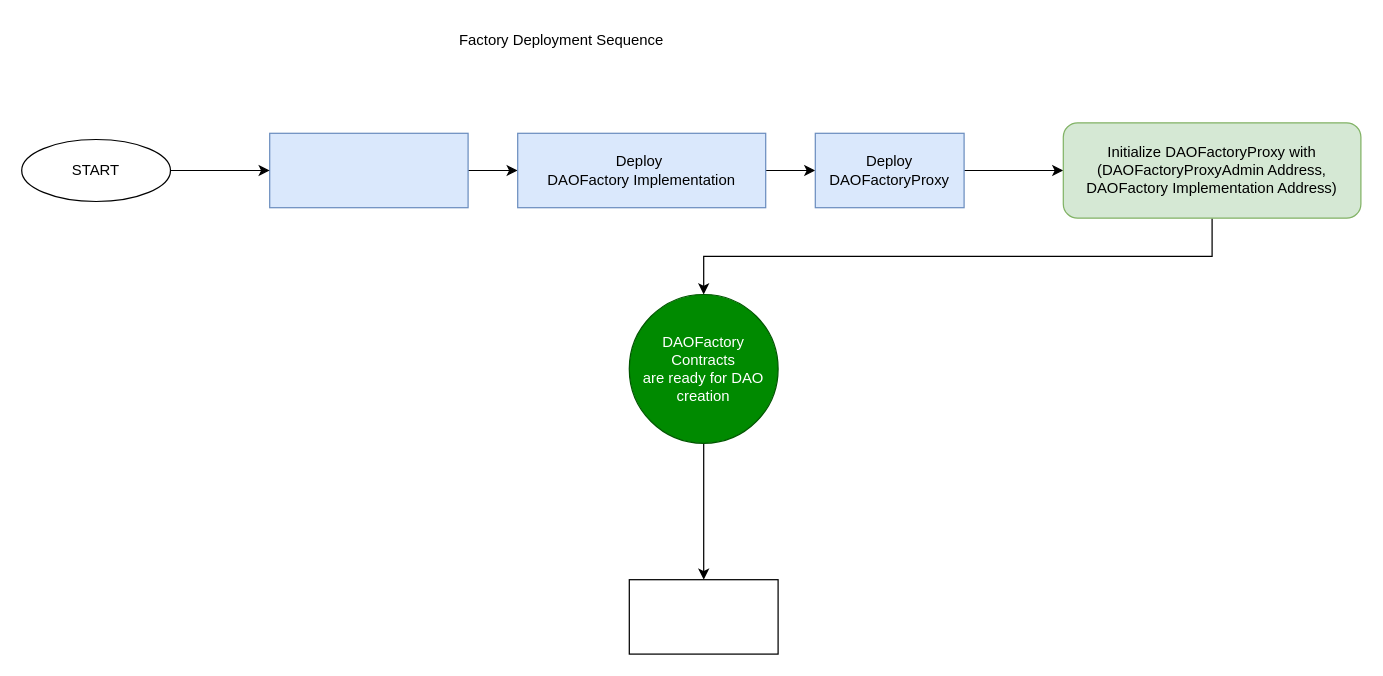
Image size: 1383x676. Some labels were removed from this diagram. The shapes that lost their labels are listed below. From the top down, each one's centre as x and y in pixels, then its label:
the point at 368,170: Deploy DAOFactoryProxyAdmin
the point at 703,616: createDAO() with DAO Name, DAO Slug
